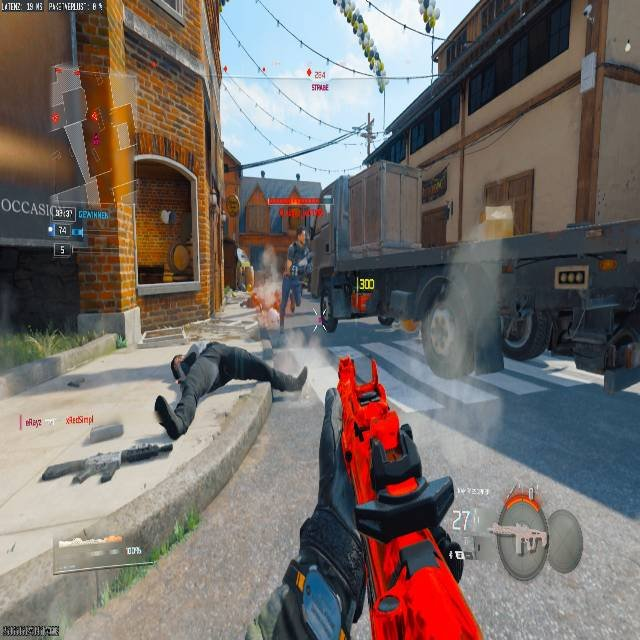head: (301, 217, 317, 236), (297, 228, 307, 242)
player: (284, 226, 313, 311)
